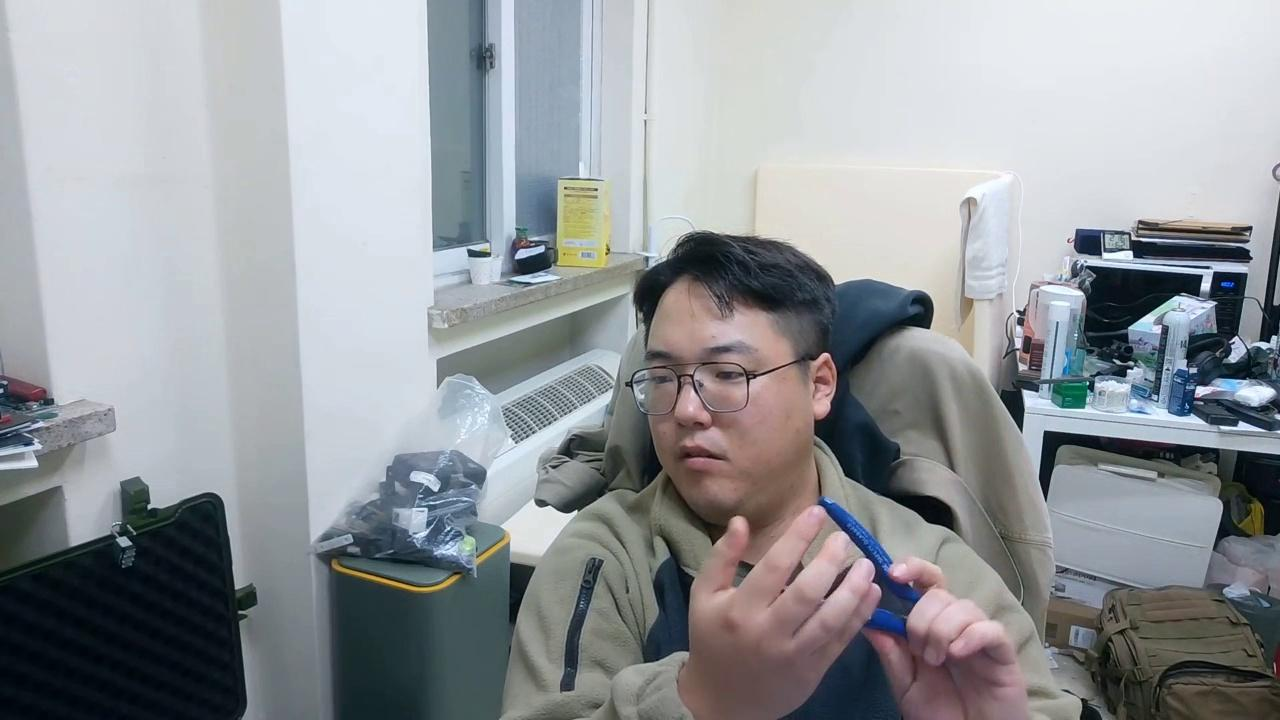blue_pliers: (815, 494, 925, 639)
